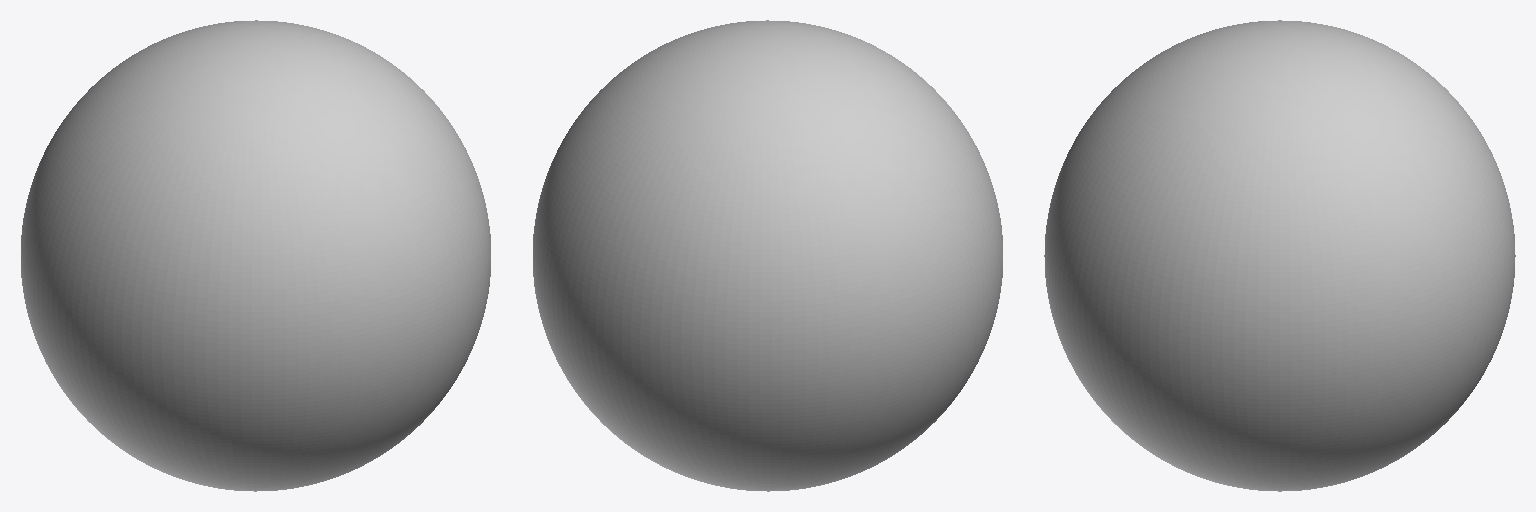
Rendered from tierra.obj.
3 renders of one model, left to right at view 1: azimuth 30°, elevation 25°; view 2: azimuth 150°, elevation 25°; view 3: azimuth 270°, elevation 25°, orthographic.
Visible parts, largest first — view 1: Moon_Sphere.001; view 2: Moon_Sphere.001; view 3: Moon_Sphere.001.
Boxes of the visible parts, x1=… form: Moon_Sphere.001: x1=21, y1=20, x2=490, y2=491; Moon_Sphere.001: x1=533, y1=20, x2=1002, y2=491; Moon_Sphere.001: x1=1044, y1=20, x2=1515, y2=491.
Size of the model in its own units: 2.88 by 2.88 by 2.88.